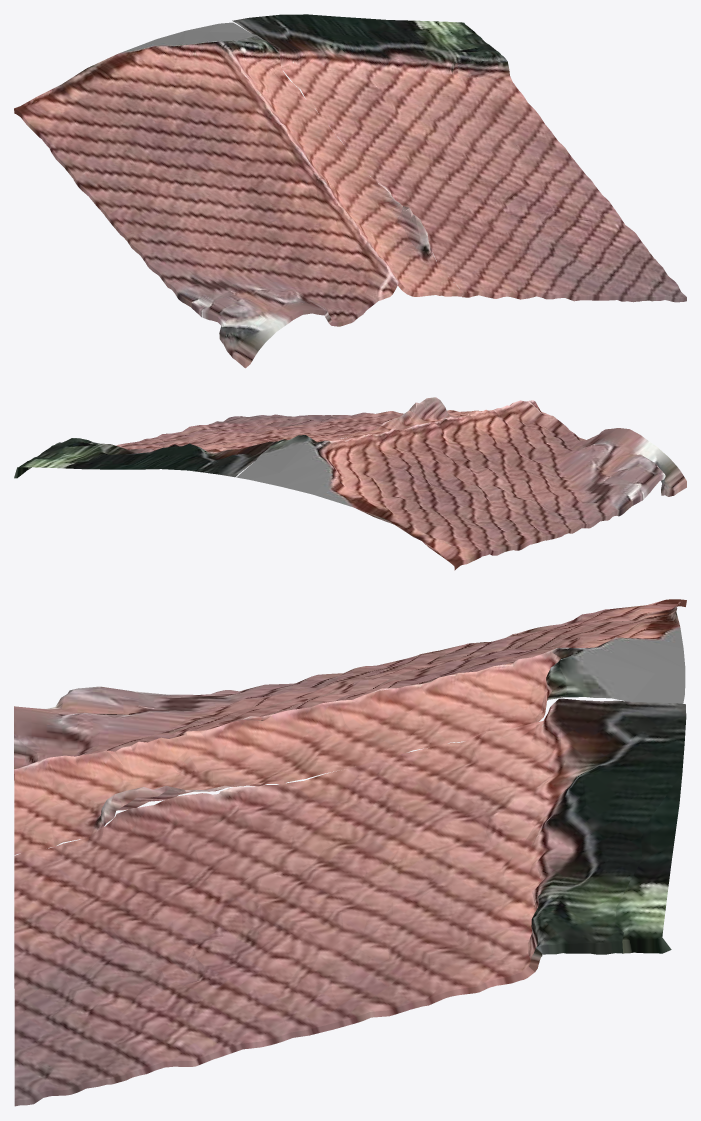
3 views of the same model, one above another, from view 1: azimuth 30°, elevation 25°; view 2: azimuth 150°, elevation 25°; view 3: azimuth 270°, elevation 25° (orthographic). The views are drawn at different scales.
Parts seen in each view (by area): view 1: node_72; view 2: node_72; view 3: node_72.
Part boxes in pixels (<box>): node_72: <box>14,14,686,368</box>; node_72: <box>14,397,686,570</box>; node_72: <box>14,599,686,1106</box>.
Bounding box in the file's own units: 9.03 × 3.58 × 8.16.
1 material, 1 textured.
